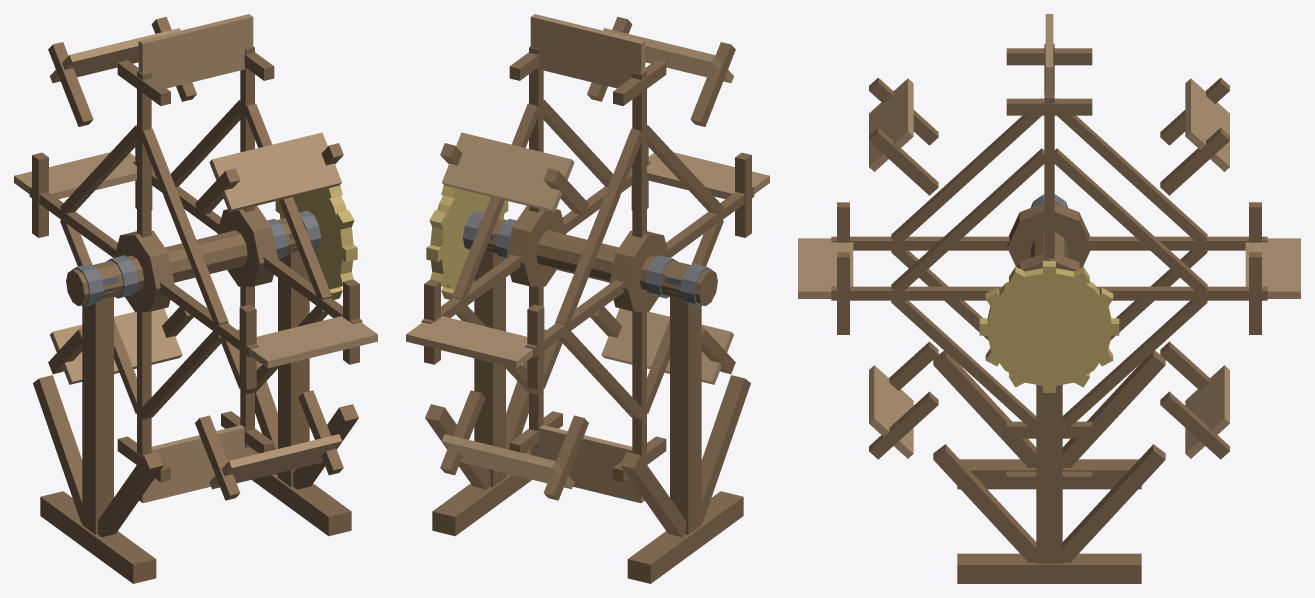
File: water_wheel.glb
The picture shows the model from 3 angles, left to right: view 1: azimuth 30°, elevation 25°; view 2: azimuth 150°, elevation 25°; view 3: azimuth 270°, elevation 25°; orthographic projection.
Visible parts, largest first — view 1: Cube, Cube.027, Cube.022, Cube.005, Cylinder, Cube.032, Cube.001, Cube.042, Cube.025, Cube.047, Cylinder.007, Cylinder.005 (+41 smaller); view 2: Cube, Cube.017, Cube.022, Cube.005, Cylinder, Cube.012, Cube.001, Cube.042, Cube.015, Cylinder.007, Cube.037, Cylinder.005 (+41 smaller); view 3: Cylinder.007, Cube.006, Cube.005, Cylinder.005, Cube.007, Cube.008, Cube.026, Cube.016, Cube.001, Cube.002, Cube.003, Cube.012 (+32 smaller).
Boxes of the visible parts, box(x1,y1,x2,y2) form: Cube: box(82, 296, 113, 534); Cube.027: box(209, 132, 341, 212); Cube.022: box(138, 14, 253, 88); Cube.005: box(278, 251, 309, 487); Cylinder: box(66, 218, 298, 306); Cube.032: box(250, 316, 377, 368); Cube.001: box(40, 491, 156, 583); Cube.042: box(139, 425, 253, 503); Cube.025: box(142, 128, 228, 327); Cube.047: box(50, 308, 182, 384); Cylinder.007: box(279, 189, 353, 289); Cylinder.005: box(114, 230, 174, 311); Cube: box(670, 296, 701, 534); Cube.017: box(442, 132, 574, 212); Cube.022: box(530, 14, 645, 88); Cube.005: box(474, 251, 505, 487); Cylinder: box(485, 218, 717, 306); Cube.012: box(406, 316, 533, 368); Cube.001: box(627, 491, 743, 583); Cube.042: box(530, 425, 644, 503); Cube.015: box(555, 128, 643, 327); Cylinder.007: box(430, 189, 504, 289); Cube.037: box(601, 308, 733, 384); Cylinder.005: box(609, 230, 669, 311); Cylinder.007: box(986, 268, 1112, 386); Cube.006: box(957, 553, 1141, 583); Cube.005: box(1036, 384, 1062, 563); Cylinder.005: box(1007, 203, 1091, 266); Cube.007: box(933, 444, 1036, 562); Cube.008: box(1062, 444, 1165, 562); Cube.026: box(891, 148, 1045, 295); Cube.016: box(1050, 148, 1207, 292); Cube.001: box(957, 459, 1141, 489); Cube.002: box(933, 351, 1036, 467); Cube.003: box(1062, 351, 1165, 467); Cube.012: box(1245, 238, 1300, 298).
Size of the model in its own units: 2.15 by 4.11 by 3.82.
